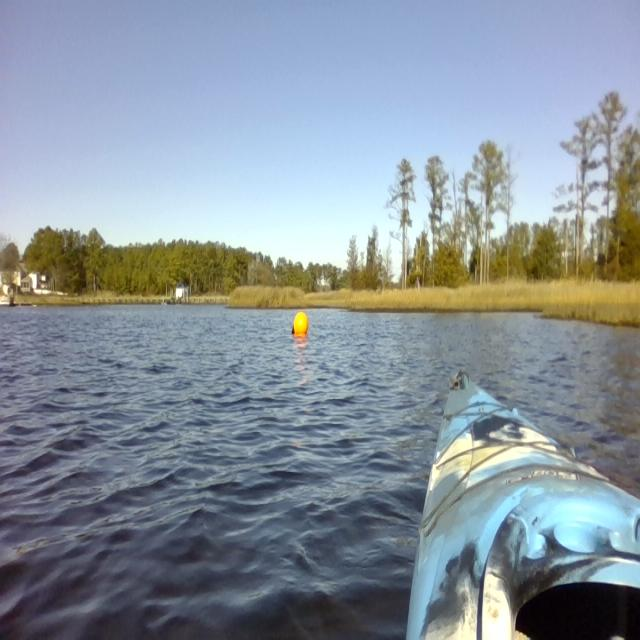Buoy: (286, 304, 313, 342)
